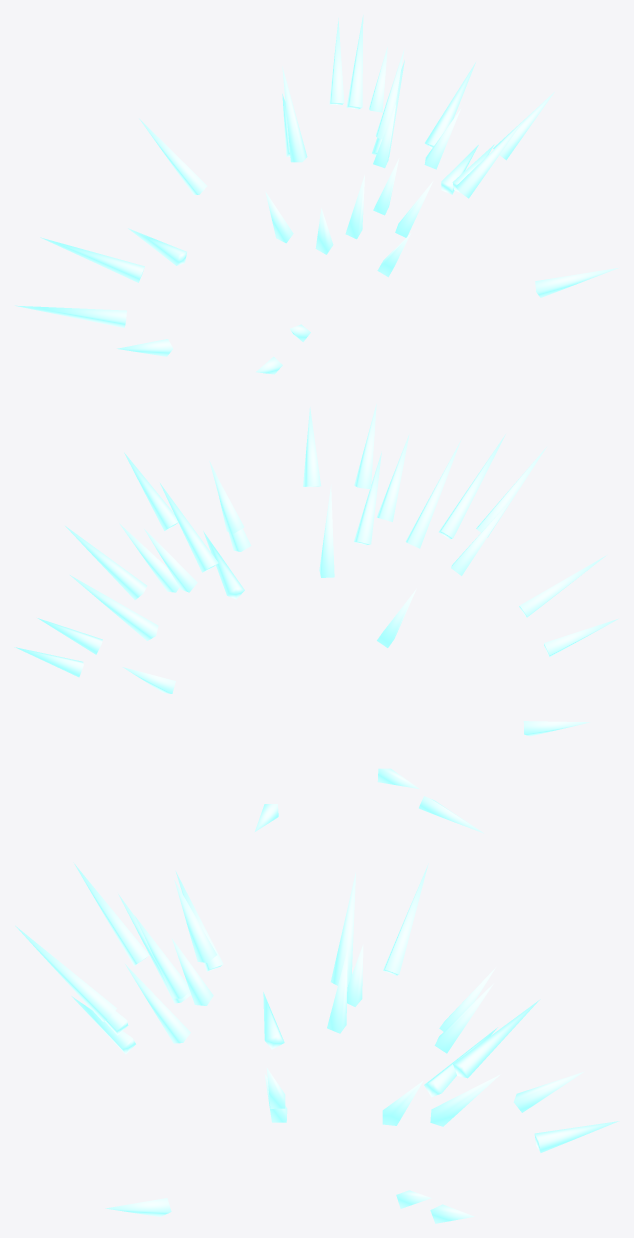
File: fx_burst_teal.glb
The picture shows the model from 3 angles, top to bottom: view 1: azimuth 30°, elevation 25°; view 2: azimuth 150°, elevation 25°; view 3: azimuth 270°, elevation 25°; orthographic projection. The views are drawn at different scales.
Visible parts, largest first — view 1: fx_burst_teal; view 2: fx_burst_teal; view 3: fx_burst_teal.
Part boxes in pixels (x1,y1,x2,y2): fx_burst_teal: (15, 15, 619, 374); fx_burst_teal: (14, 404, 618, 833); fx_burst_teal: (15, 862, 619, 1223).
Bounding box in the file's own units: 2.02 × 1.13 × 2.01.
